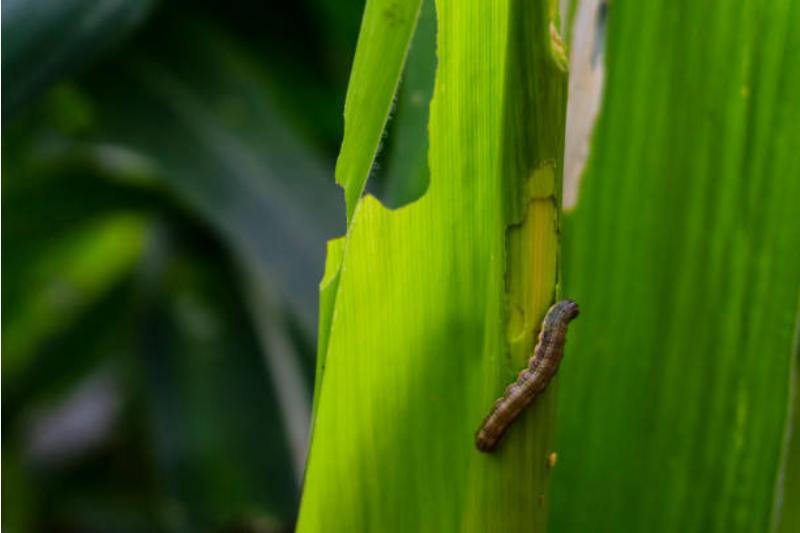fall-armyworm: (474, 301, 580, 454)
